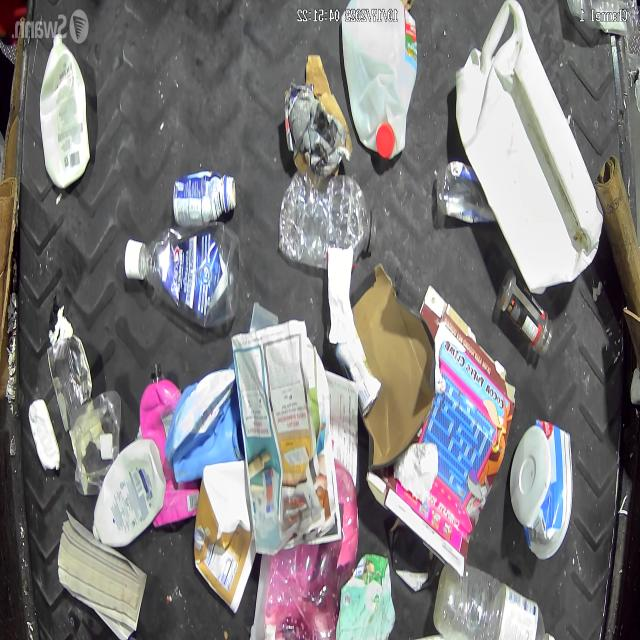can: (47, 335, 92, 433)
milk_jug: (454, 0, 605, 296), (341, 8, 416, 160)
plastic_bottle: (125, 226, 238, 326), (278, 174, 377, 269), (432, 566, 556, 640)
